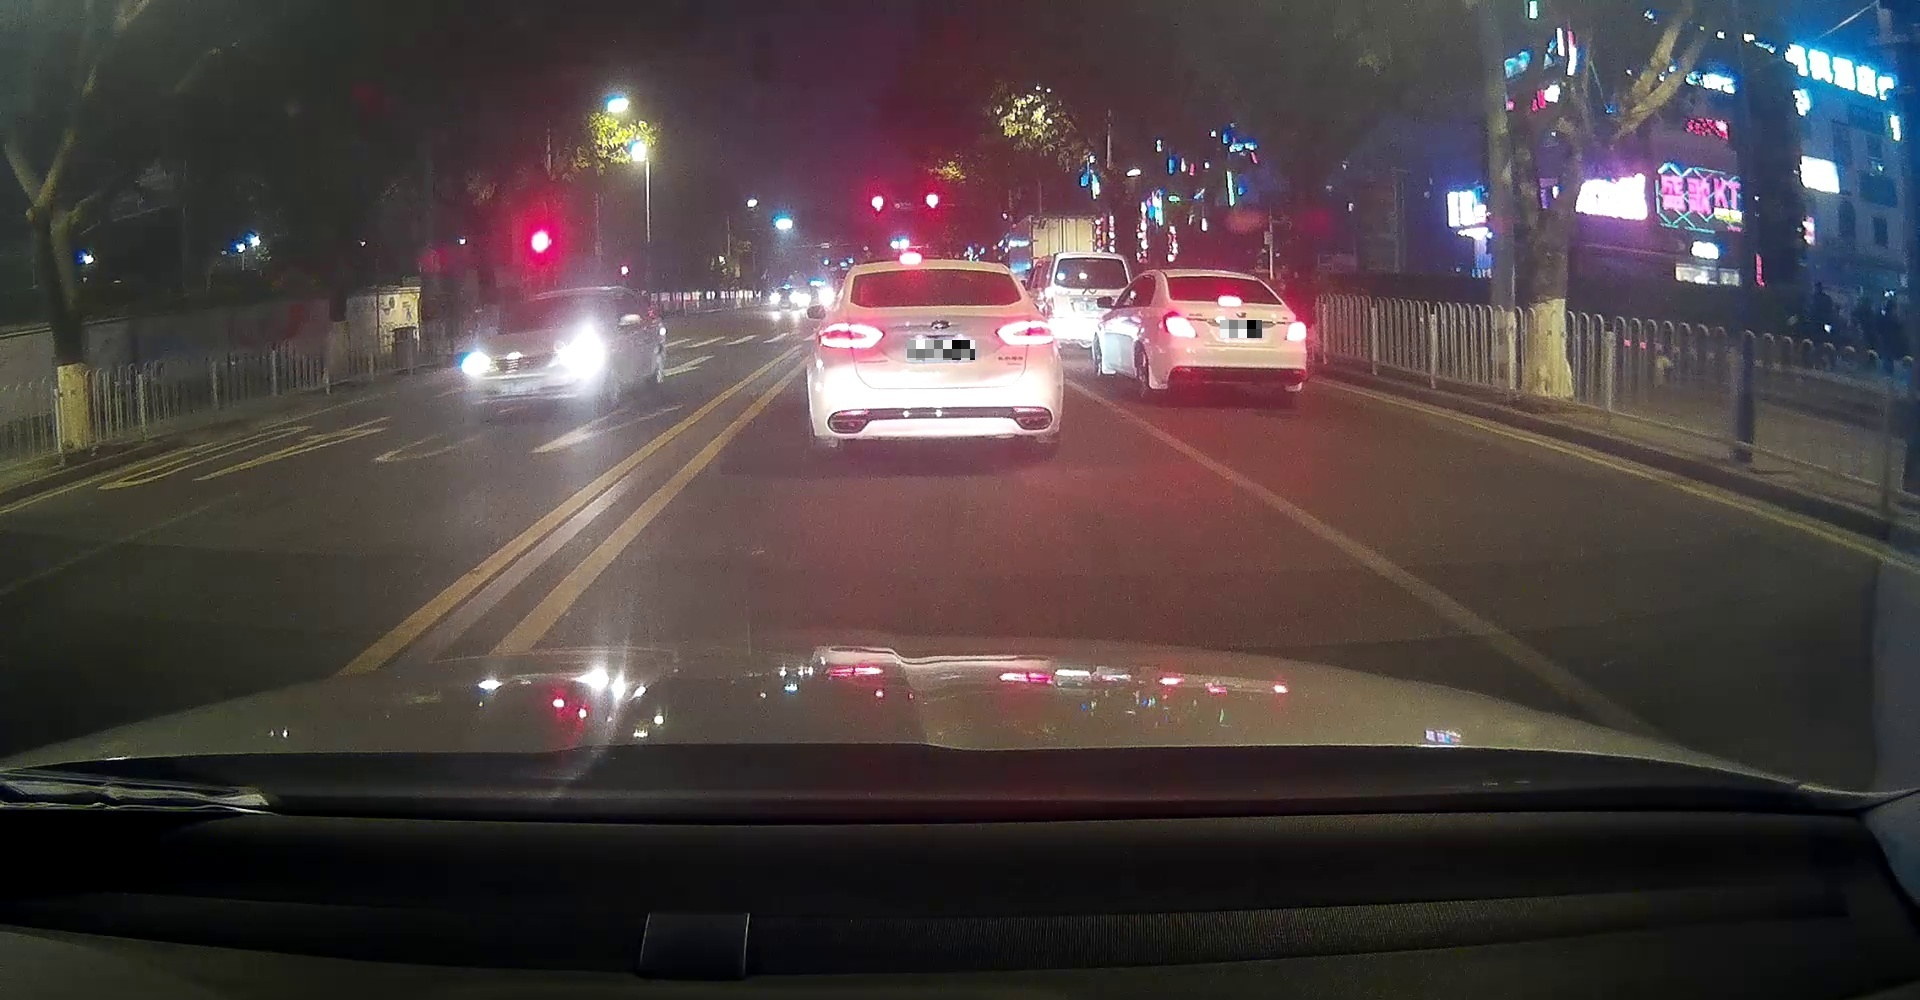L_light: (817, 322, 885, 349), (1163, 311, 1197, 338)
R_light: (996, 319, 1054, 346), (1285, 321, 1307, 341)
T_light: (1218, 294, 1243, 307), (924, 266, 952, 274)
night-brake: (1162, 268, 1307, 398)
night-no: (814, 259, 1055, 456)
plate_1: (907, 340, 975, 360)
plate_2: (1220, 320, 1262, 338)
